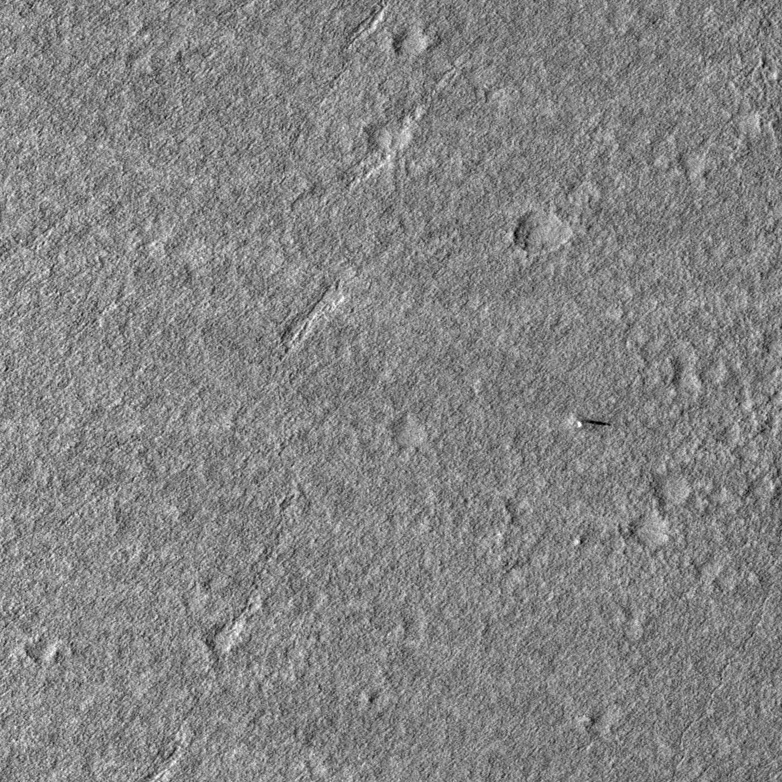dust_devil: (575, 418, 612, 429)
